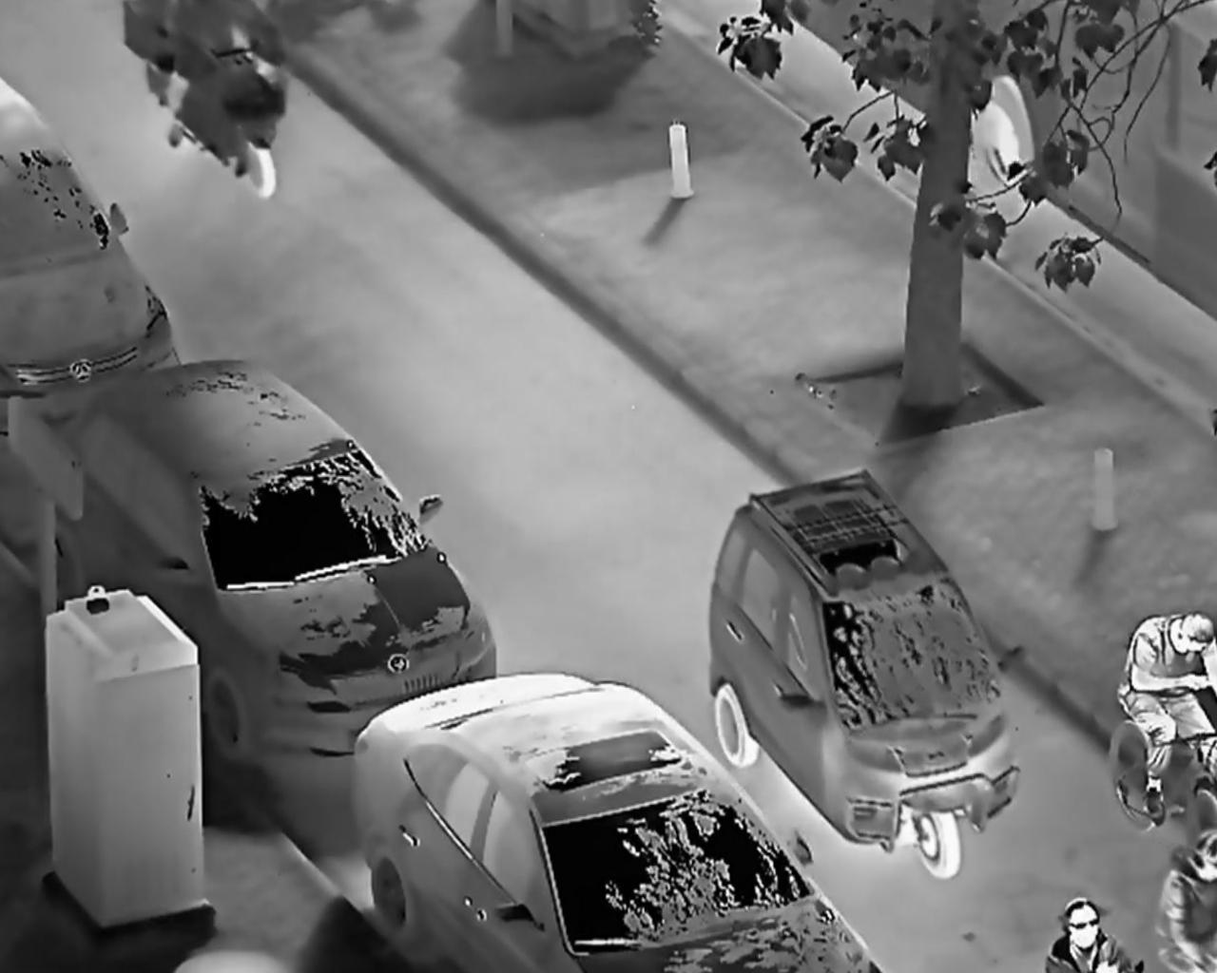person: (1110, 605, 1217, 828), (1146, 828, 1217, 970), (1040, 889, 1140, 970)
